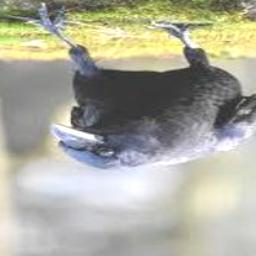Crow: (14, 2, 256, 169)
